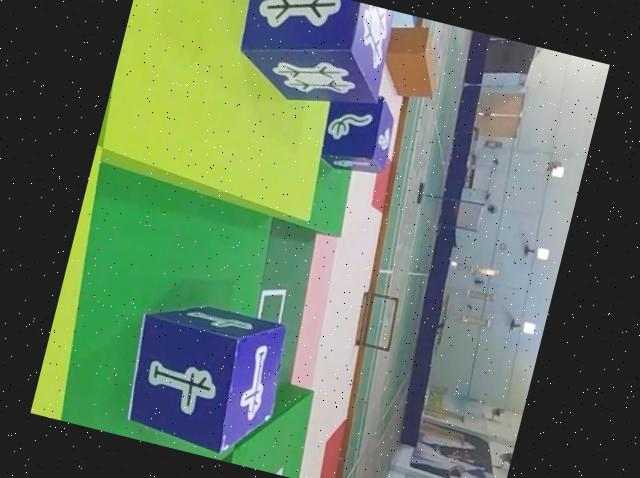R2 Real Blue: (113, 288, 293, 460), (223, 0, 398, 116), (312, 83, 404, 181)
